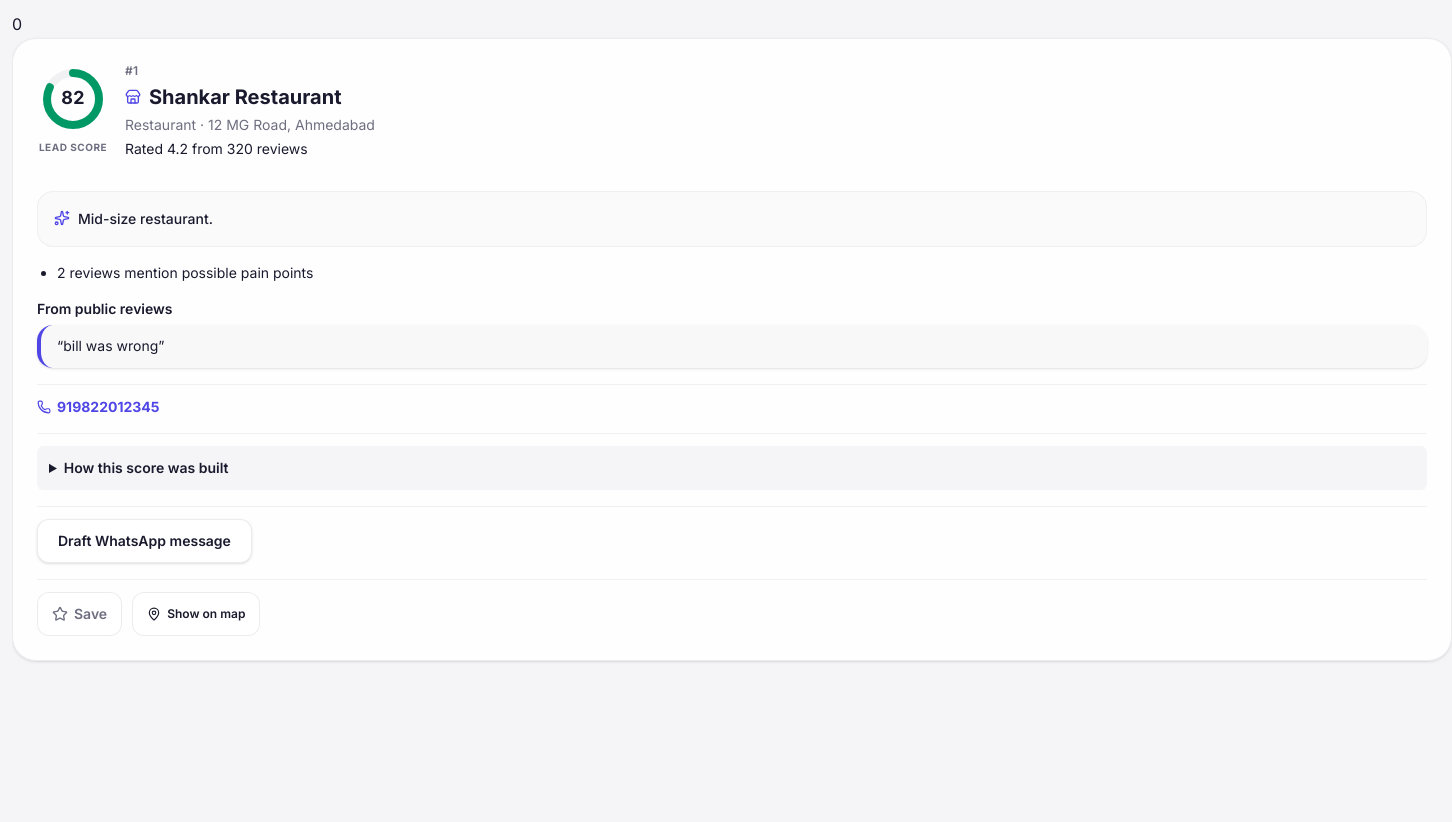
Test: card star buttons › stars a lead from its card
Click the button with aria-label "Add Shankar Restaurant to shortlist": (80, 614) [37,592,122,636]
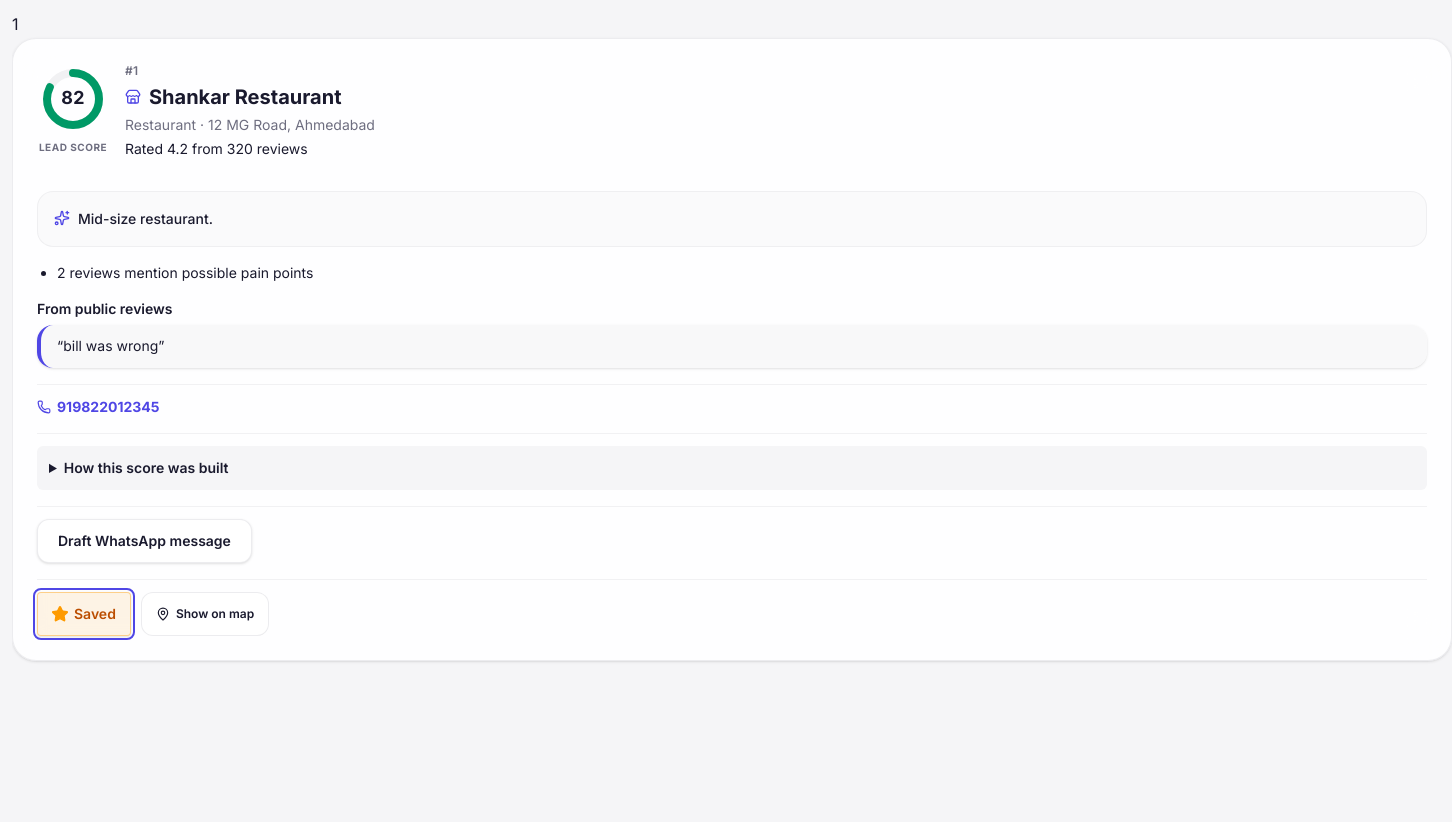
Expected: the text with test id "count" reads "1", [12,14,18,34]
